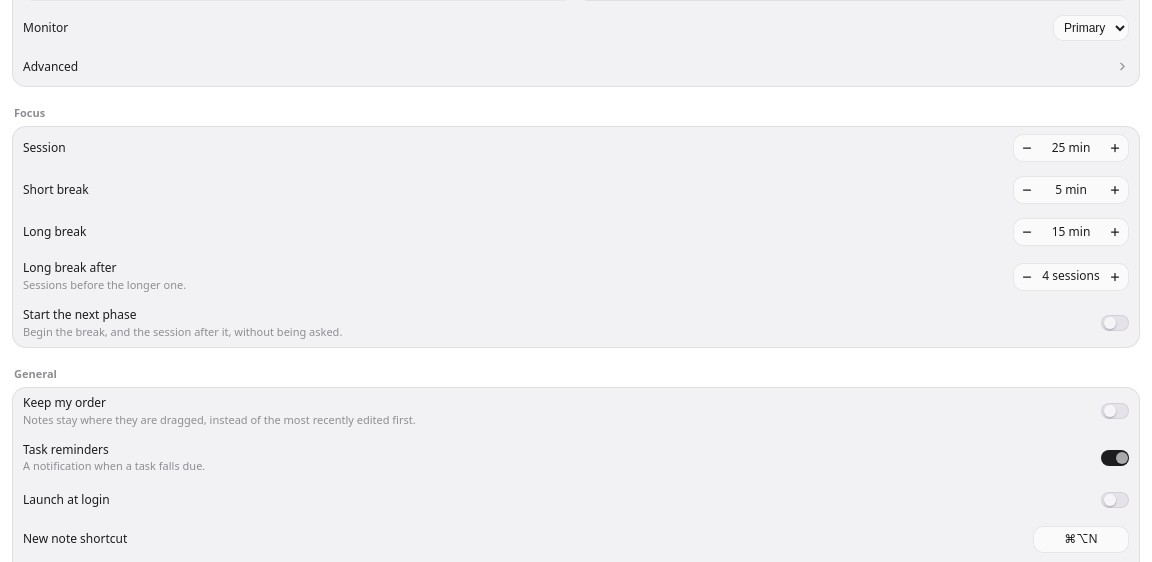
the new note shortcut › records the keys pressed instead of asking for accelerator syntax
(page scrolled)
Click the button named "New note shortcut". click: (1081, 540)
box: [1033,526,1129,553]
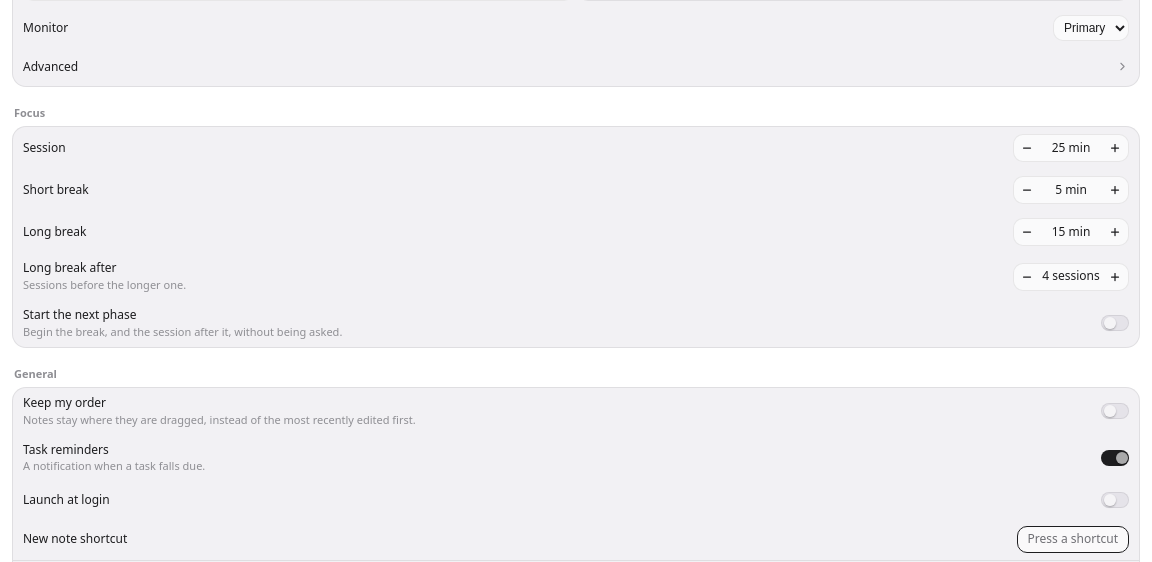
Expected: the button named "New note shortcut" reads "Press a shortcut", [1017,526,1129,553]
Press KeyJ
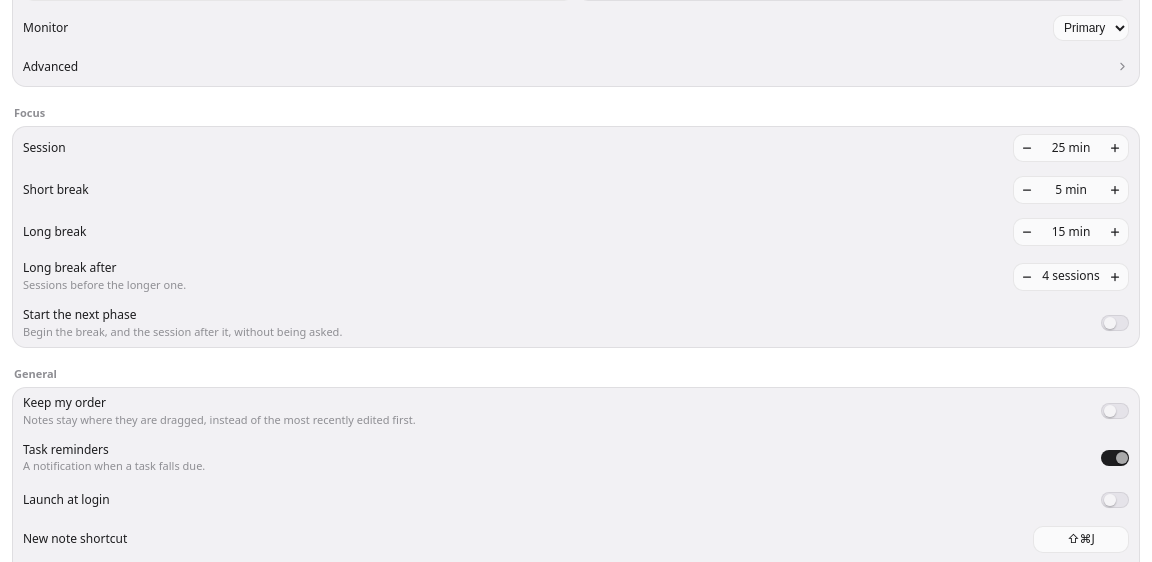
Expected: the button named "New note shortcut" reads "⇧⌘J", [1033,526,1129,553]
